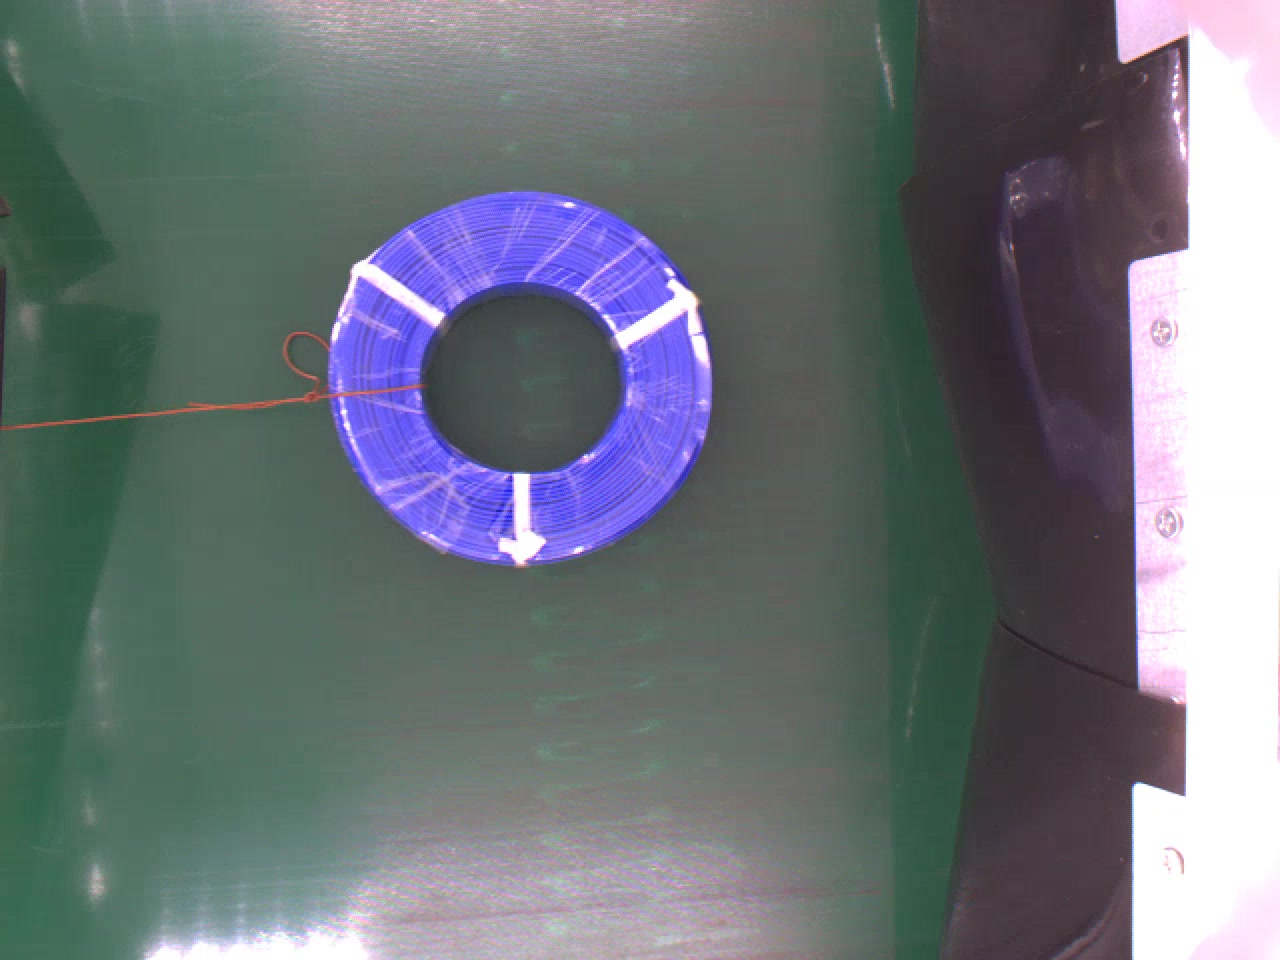blue: (319, 186, 717, 580)
